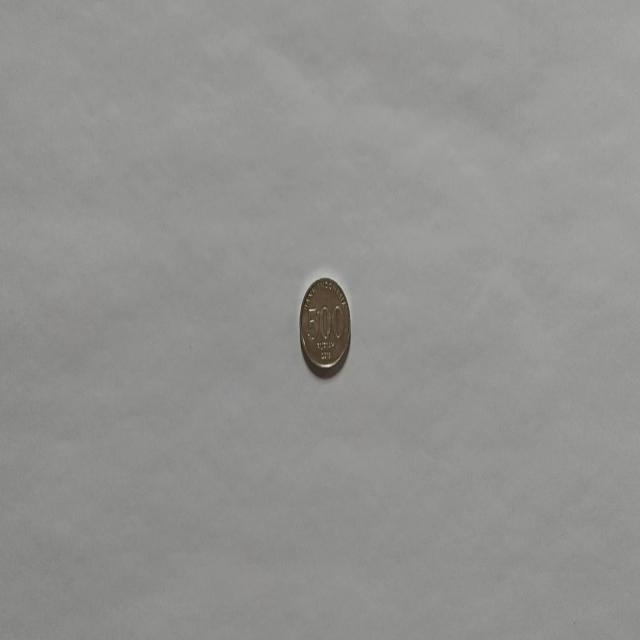lima ratus rupiah: (298, 274, 351, 376)
